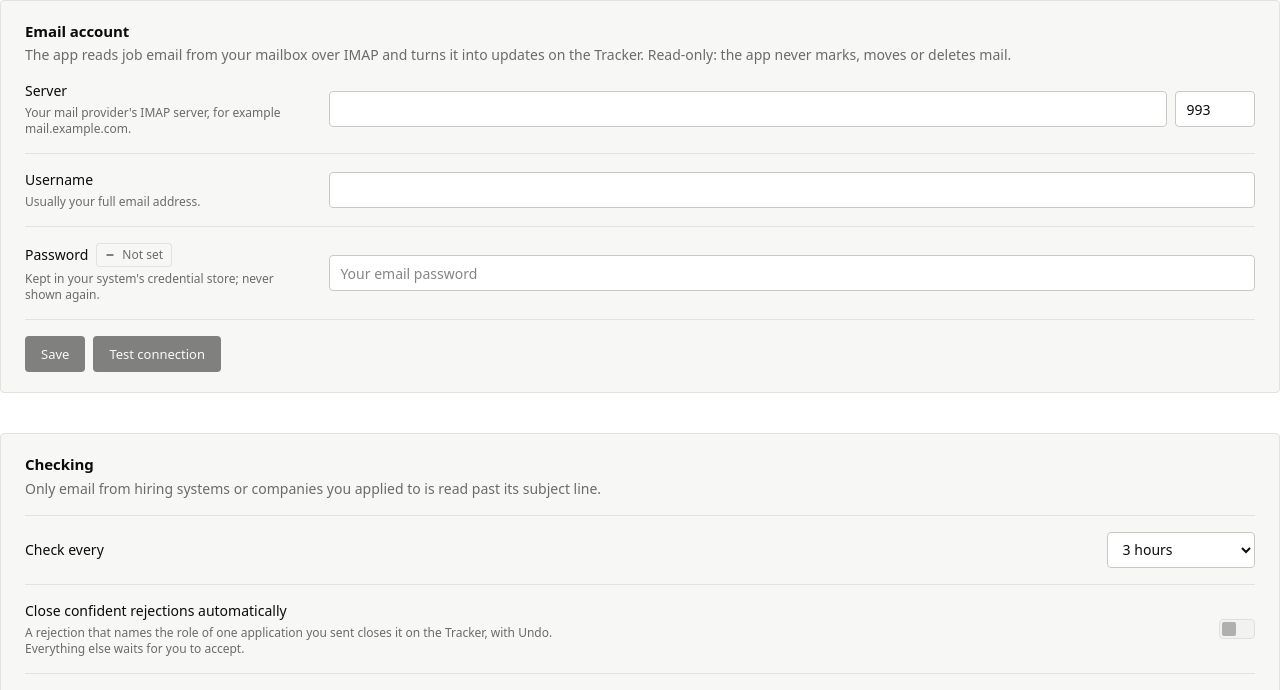
Test: EmailSection › saves an account with a write-only password and says it is read-only
This screenshot has width=1280, height=690.
Expected: the text "never marks, moves or deletes mail" is shown, [25,45,1011,64]
Expected: the switch named "Close confident rejections automatically" is disabled, [1219,618,1255,638]
Type " mail.example.com " into the field named "IMAP server" at (748, 109), box [329,91,1167,127]
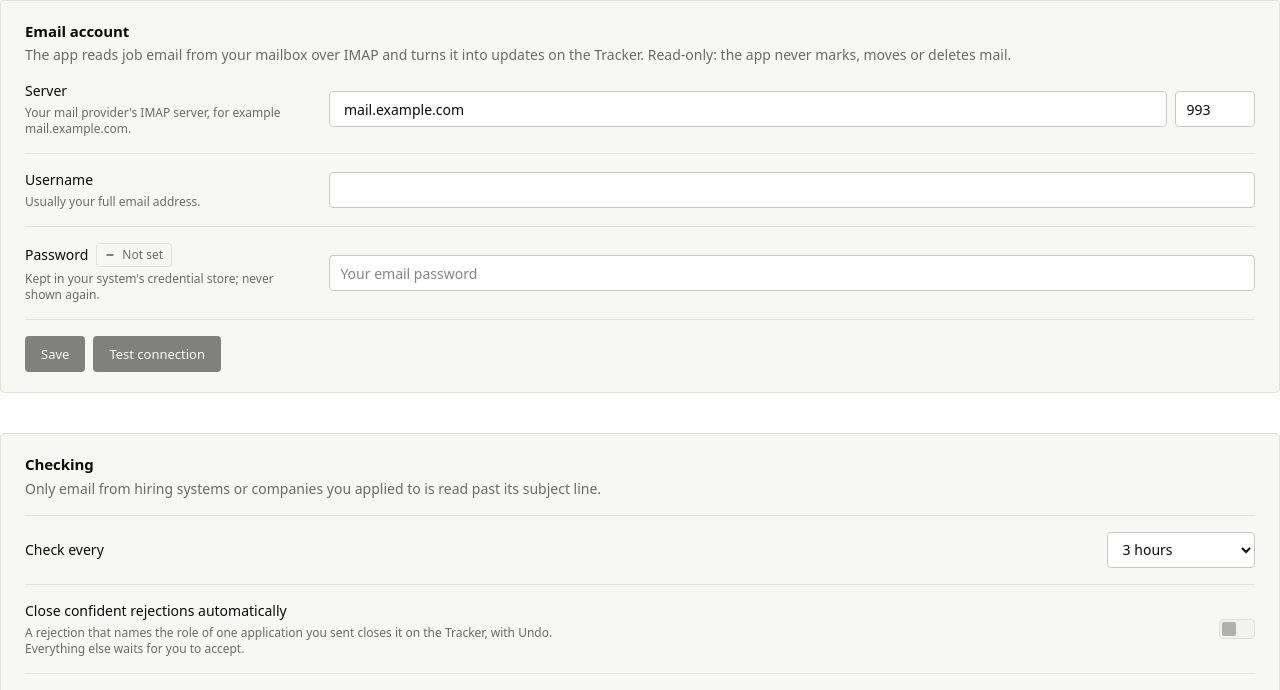
Type "me@example.com" into the field named "Username" at (792, 190), box [329,172,1255,208]
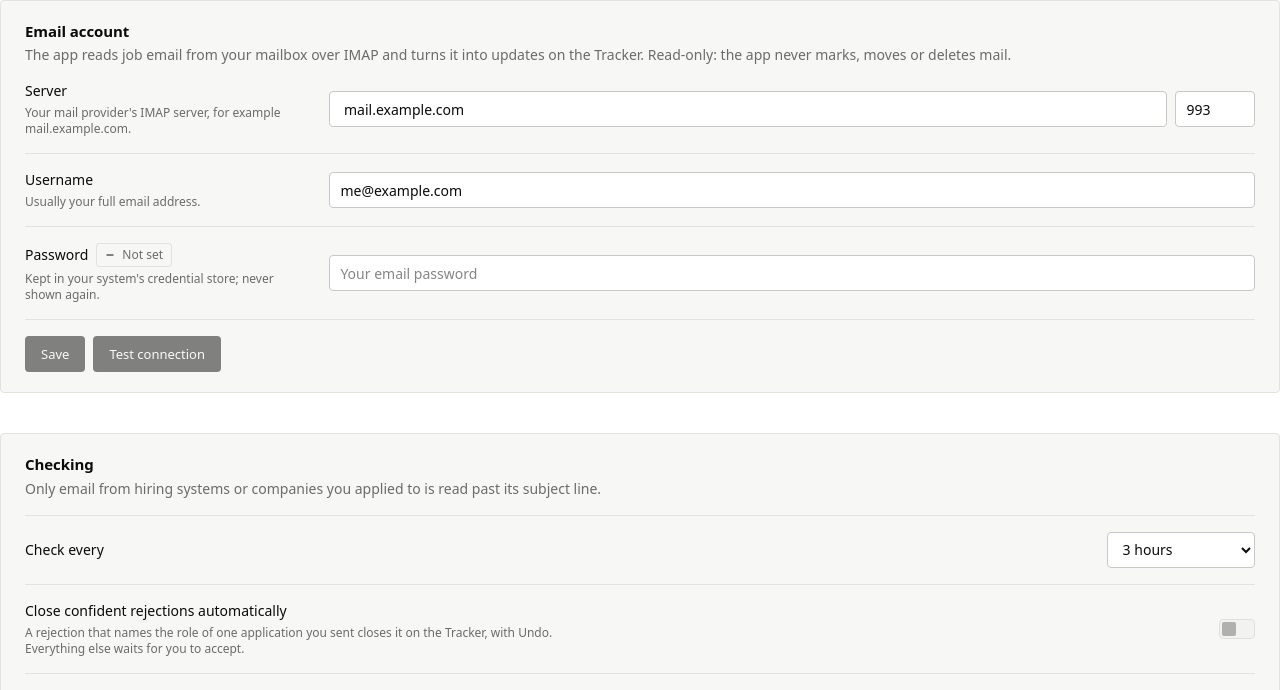
Type "s3cret" into the password field labelled "password" at (792, 273), box [329,255,1255,291]
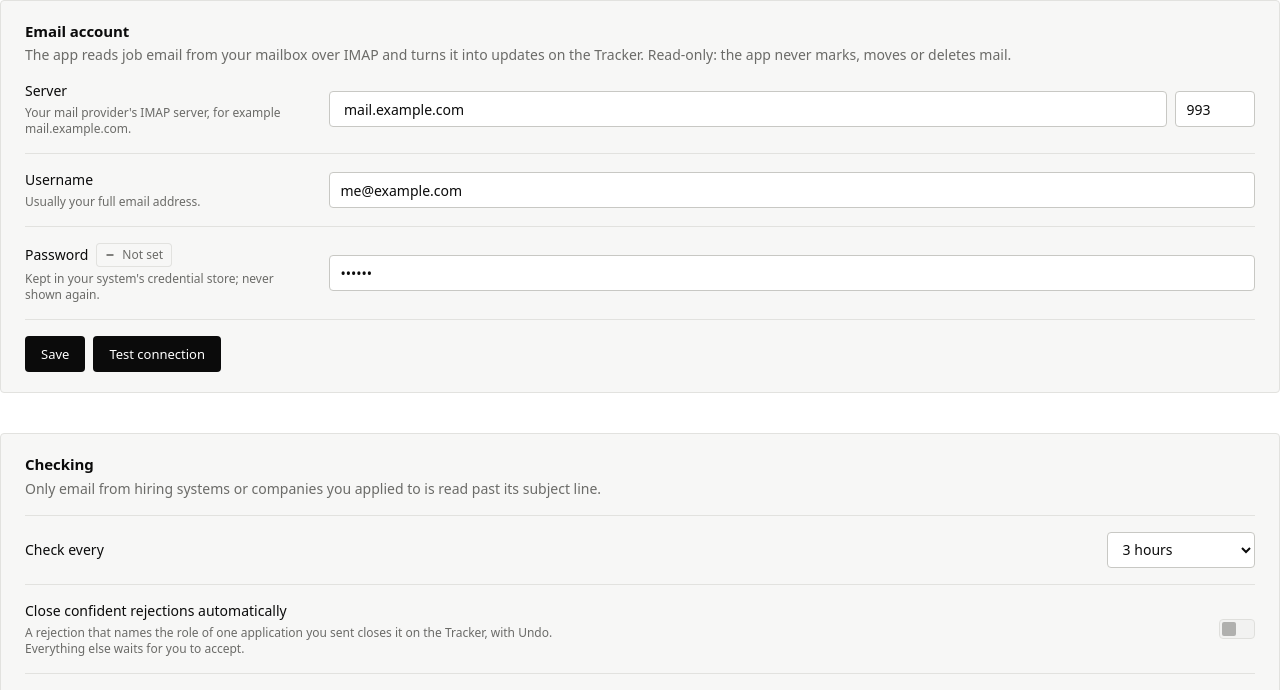
Click the button "Save" at (55, 354), box [25,336,85,372]
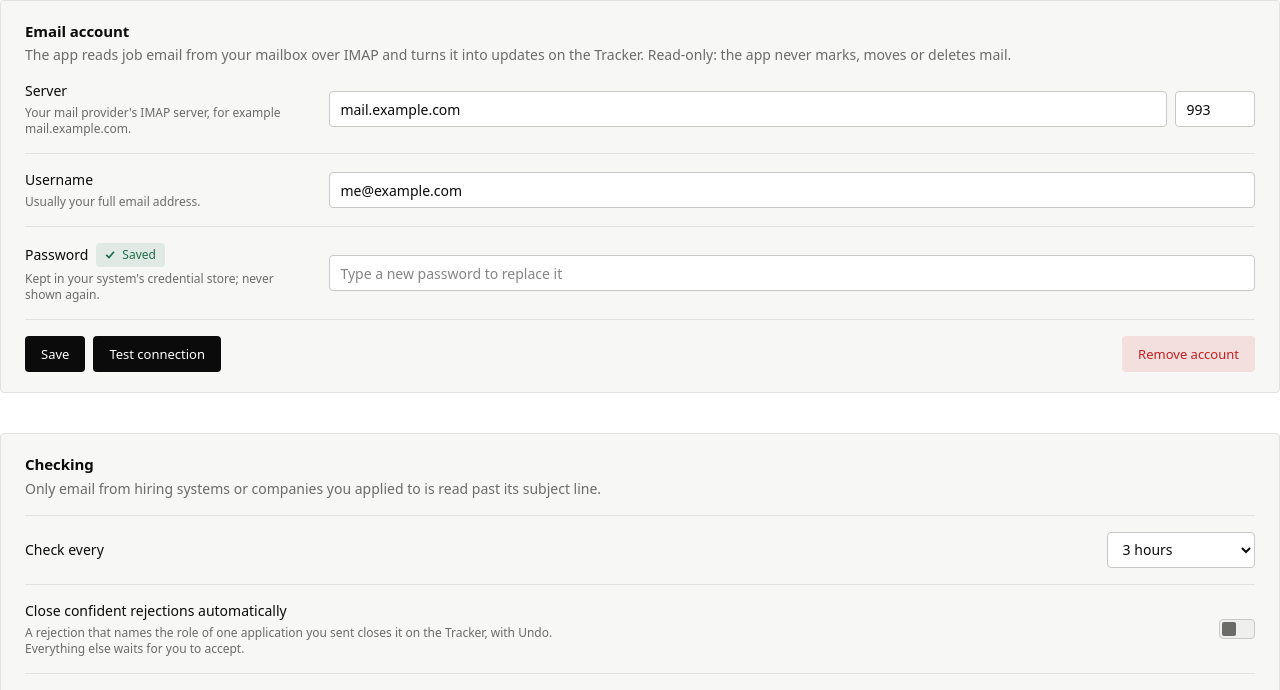
Expected: the text "Saved" is shown, [96,243,165,267]
Expected: the password field labelled "password" is empty, [329,255,1255,291]
